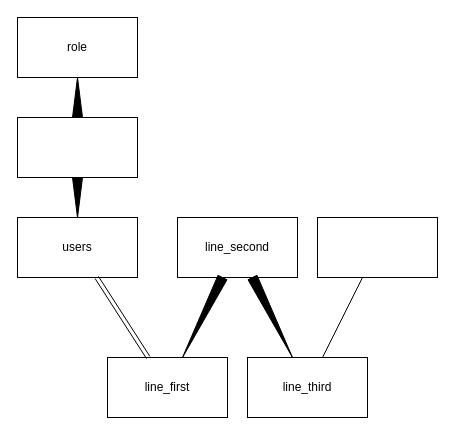
The diagram is 455 pixels wide and 435 high, and some of its shapes have lost their labels. Here are the shapes that lost their labels. From the top down, the centre of each, then its label:
At (x=77, y=147): "user_role".
At (x=377, y=247): "line_forth".
